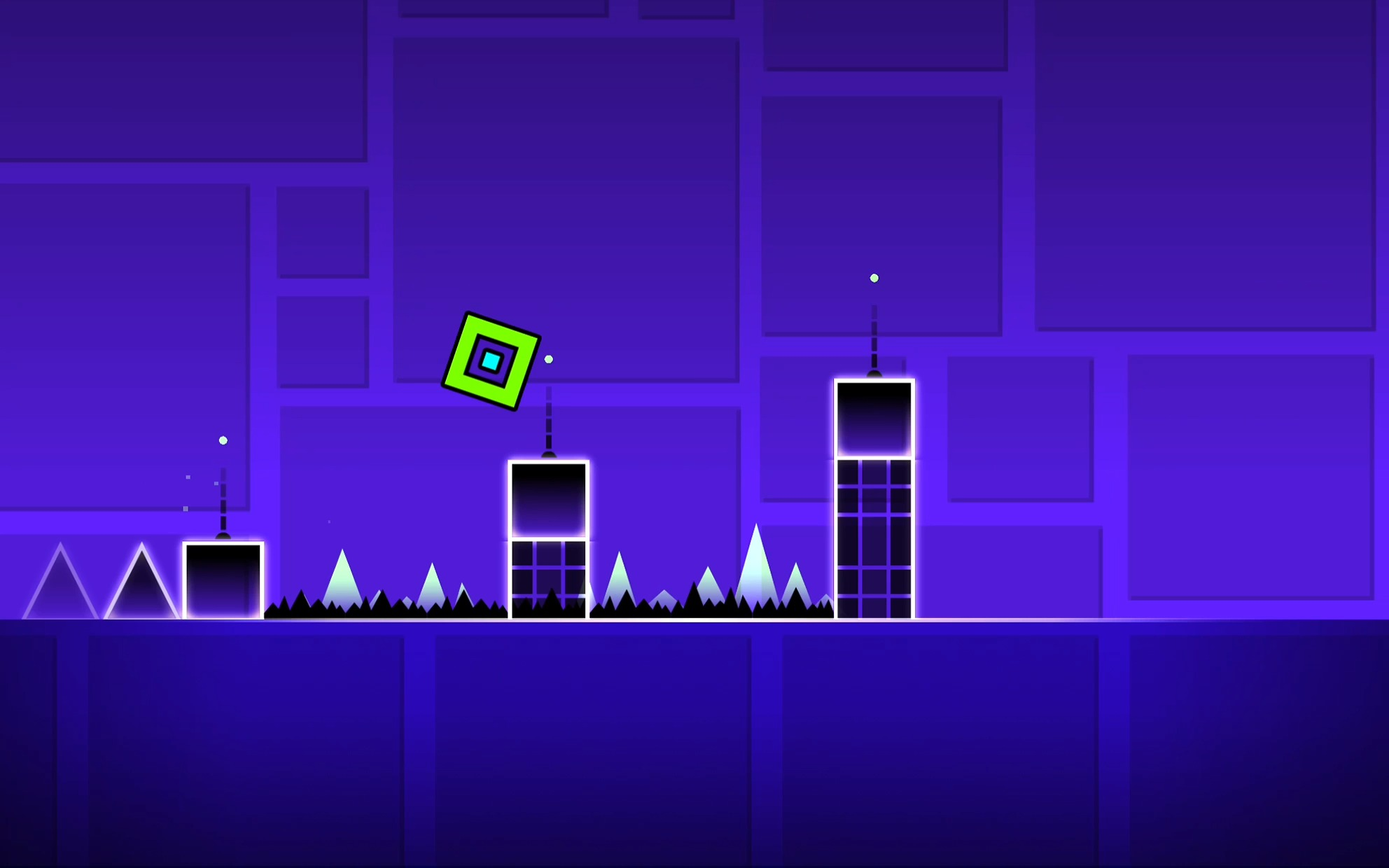Block: (181, 540, 266, 618), (835, 378, 915, 457), (510, 460, 589, 538)
Block2: (837, 458, 913, 620), (508, 538, 589, 617)
Player: (442, 310, 540, 410)
Spike: (103, 543, 178, 617), (22, 545, 97, 617)
Spike3: (594, 591, 835, 622), (267, 592, 506, 620)
